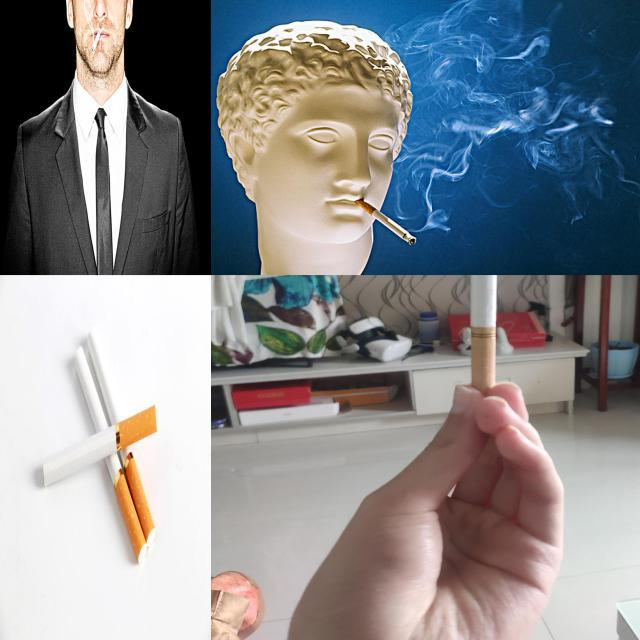smoking: (74, 346, 148, 564), (87, 331, 156, 548), (42, 404, 158, 488), (469, 275, 501, 392), (356, 198, 418, 246), (91, 28, 102, 53)
